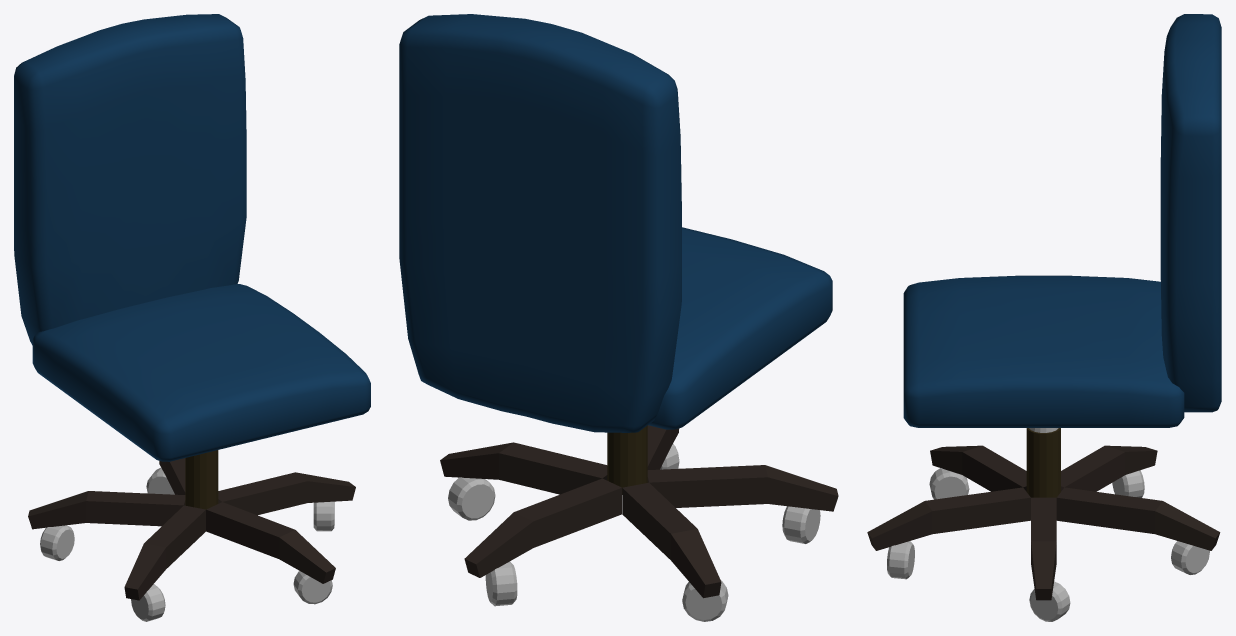
Rendered from Prop_OfficeChair_01.fbx.
3 renders of one model, left to right at view 1: azimuth 30°, elevation 25°; view 2: azimuth 150°, elevation 25°; view 3: azimuth 270°, elevation 25°, orthographic. The views are drawn at different scales.
Visible parts, largest first — view 1: Prop_OfficeChair_01; view 2: Prop_OfficeChair_01; view 3: Prop_OfficeChair_01.
Part boxes in pixels (x1,y1,x2,y2): Prop_OfficeChair_01: [14, 14, 370, 621]; Prop_OfficeChair_01: [399, 14, 838, 621]; Prop_OfficeChair_01: [867, 14, 1221, 621].
Bounding box in the file's own units: 63.07 × 105 × 66.57.
